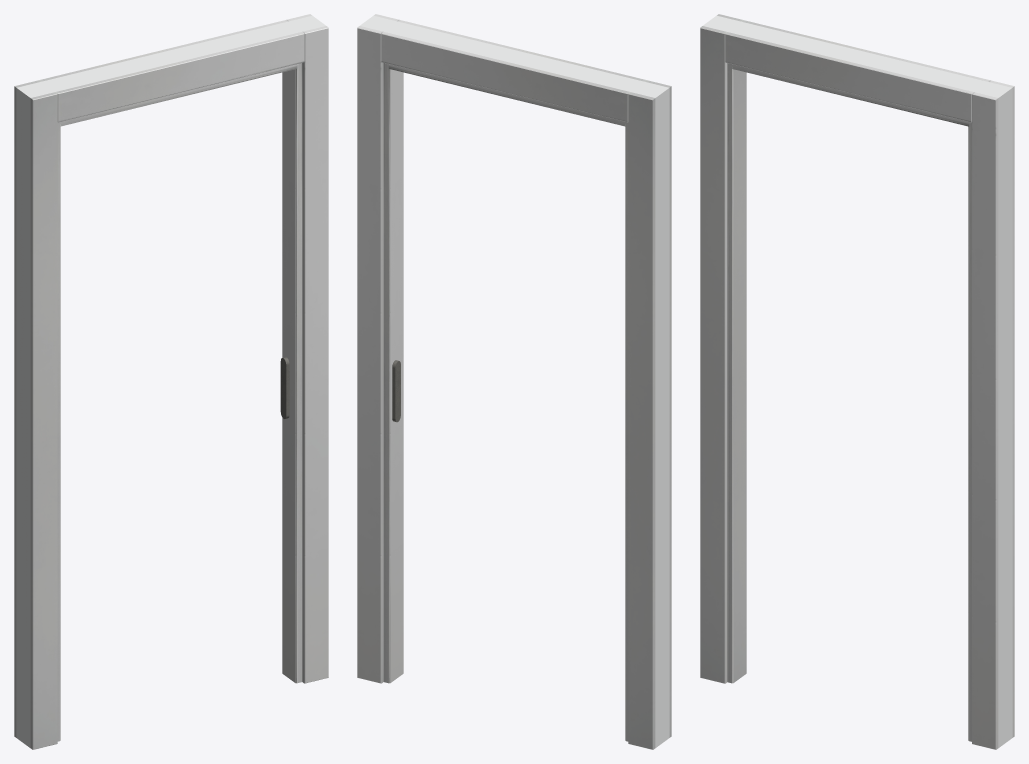
File: doorframe.glb
The picture shows the model from 3 angles, left to right: view 1: azimuth 30°, elevation 25°; view 2: azimuth 150°, elevation 25°; view 3: azimuth 330°, elevation 25°; orthographic projection.
Parts seen in each view (by area): view 1: Difference2, Difference2.001, nz_implode: Items; view 2: Difference2.001, Difference2, nz_implode: Items; view 3: Difference2, Difference2.001.
Part boxes in pixels (<box>): Difference2: <box>18,17,328,749</box>; Difference2.001: <box>14,14,323,746</box>; nz_implode: Items: <box>280,357,289,418</box>; Difference2.001: <box>357,22,667,749</box>; Difference2: <box>361,14,671,744</box>; nz_implode: Items: <box>392,360,400,422</box>; Difference2: <box>700,17,1010,749</box>; Difference2.001: <box>704,14,1014,738</box>.
Bounding box in the file's own units: 1.01 × 2.12 × 0.112.
4 materials, 2 textured.
